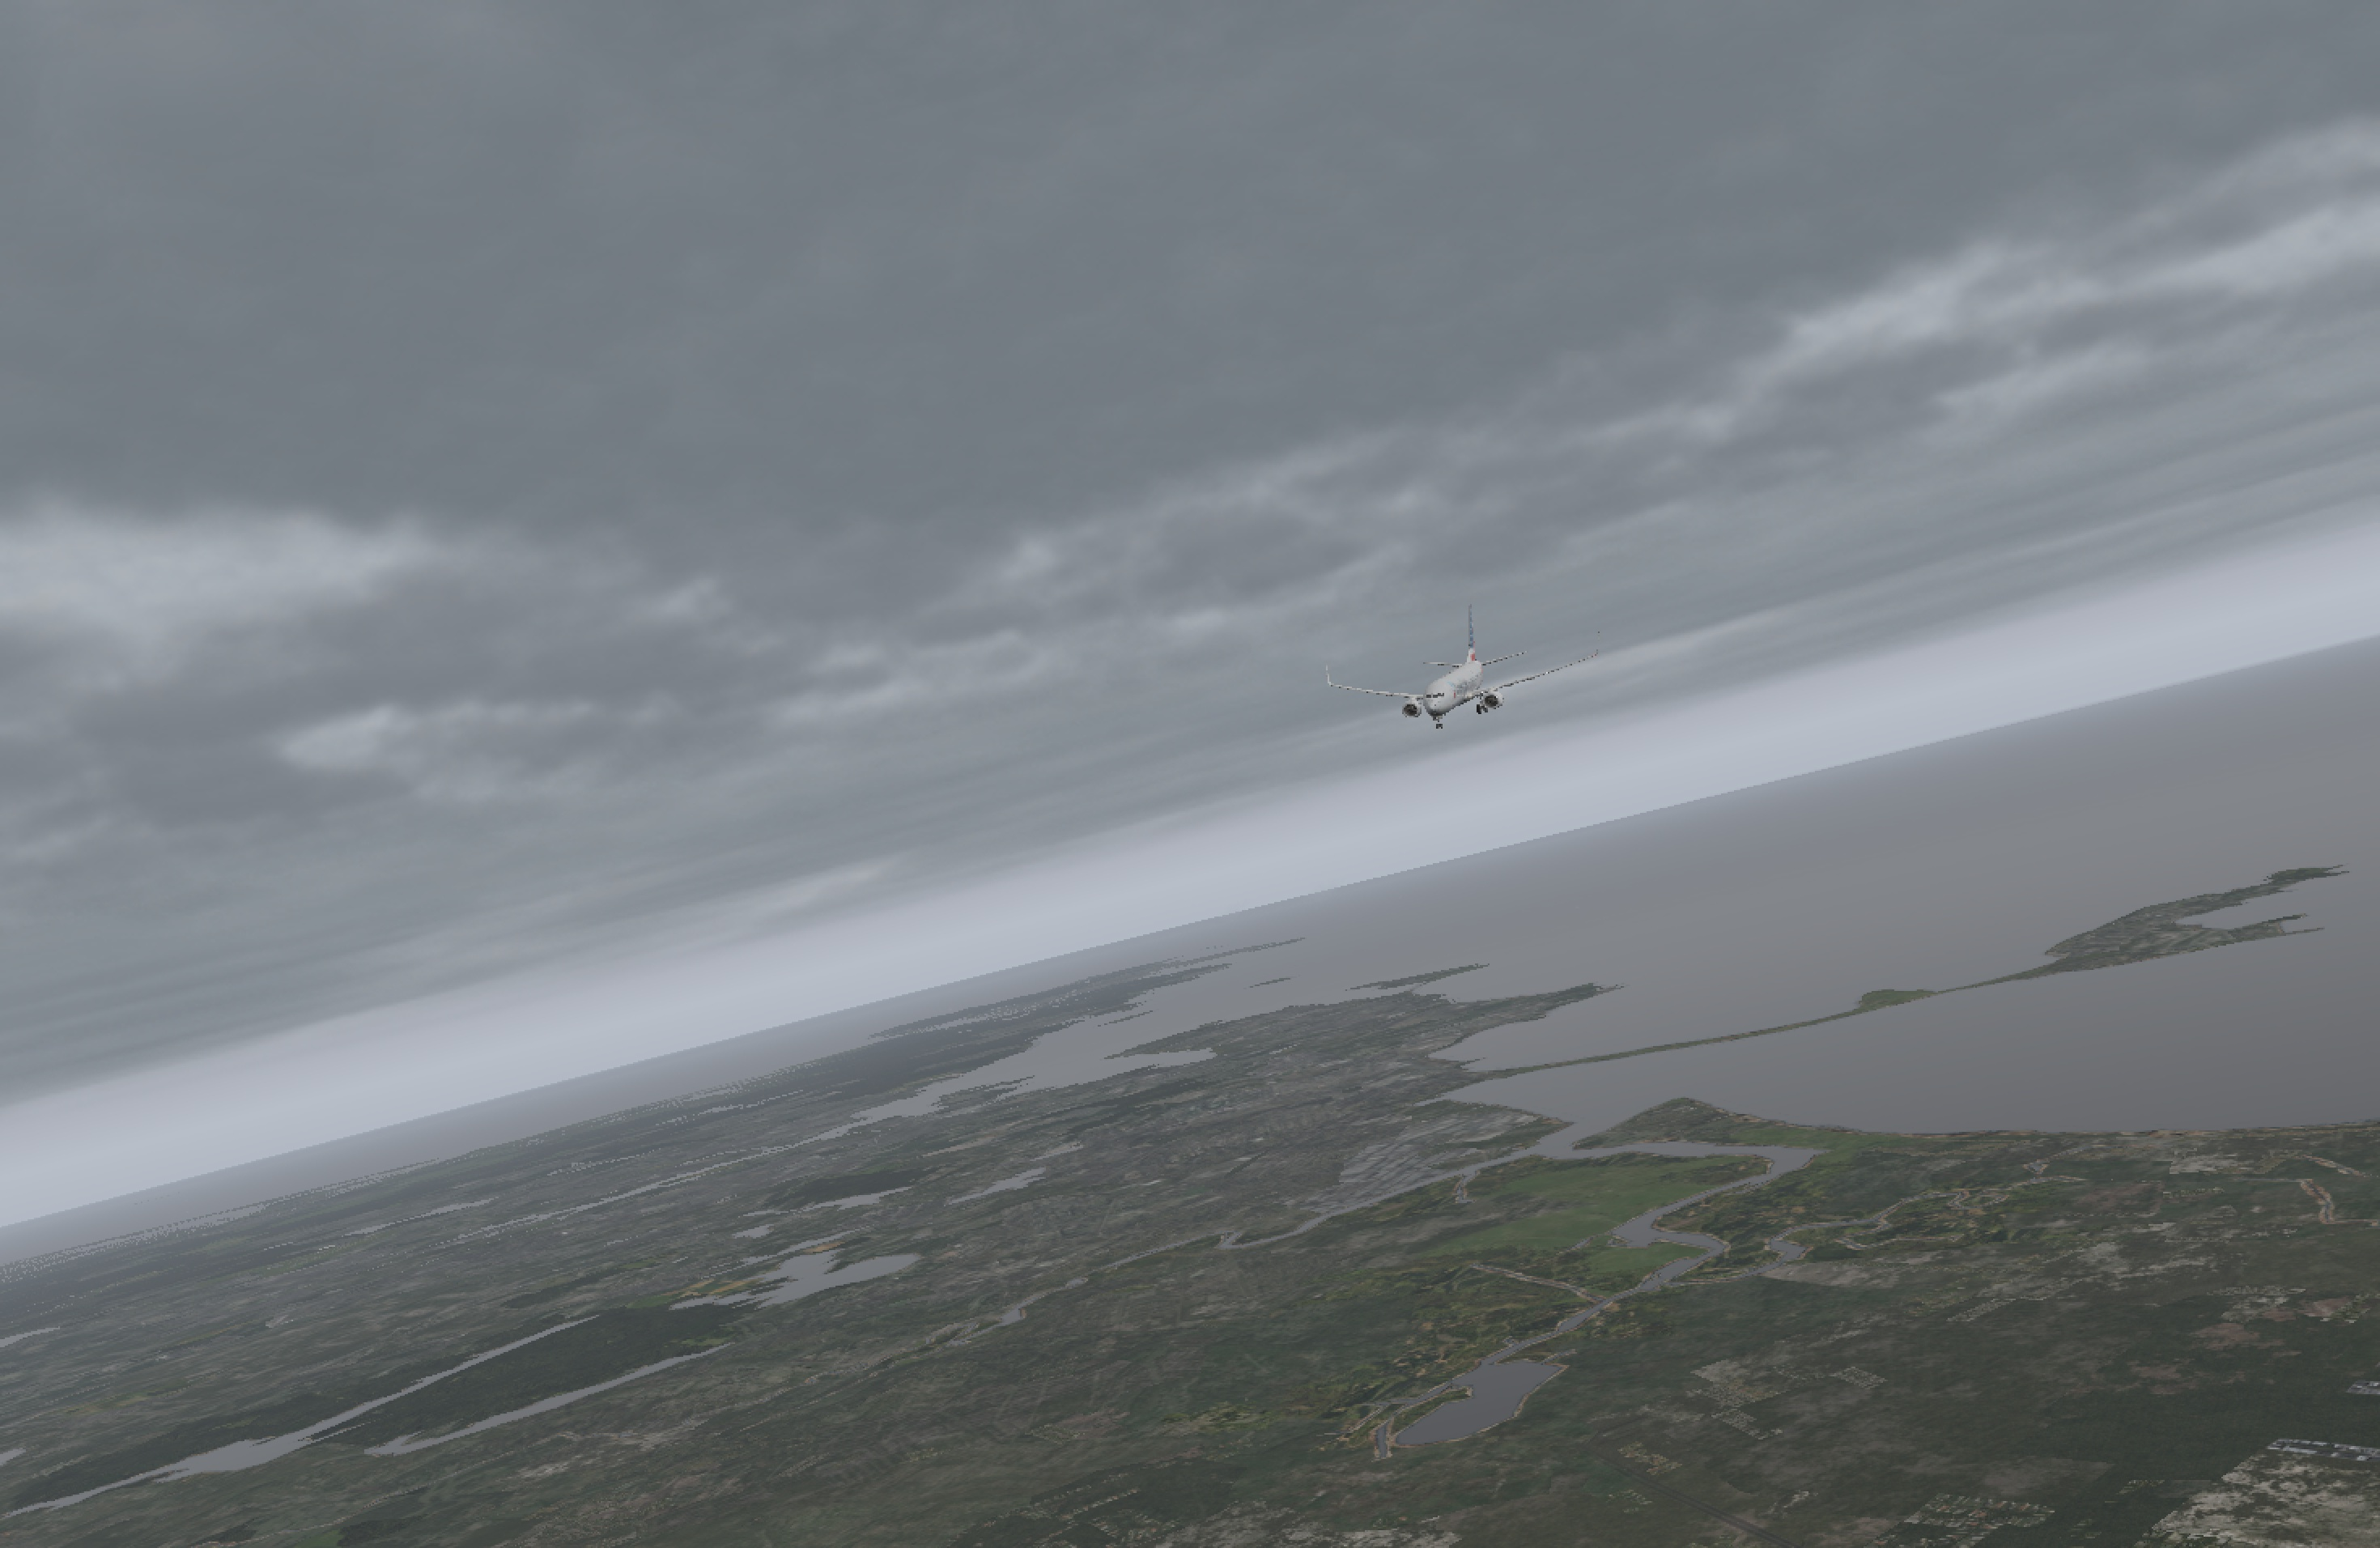aircraft: (1296, 633, 1615, 751)
